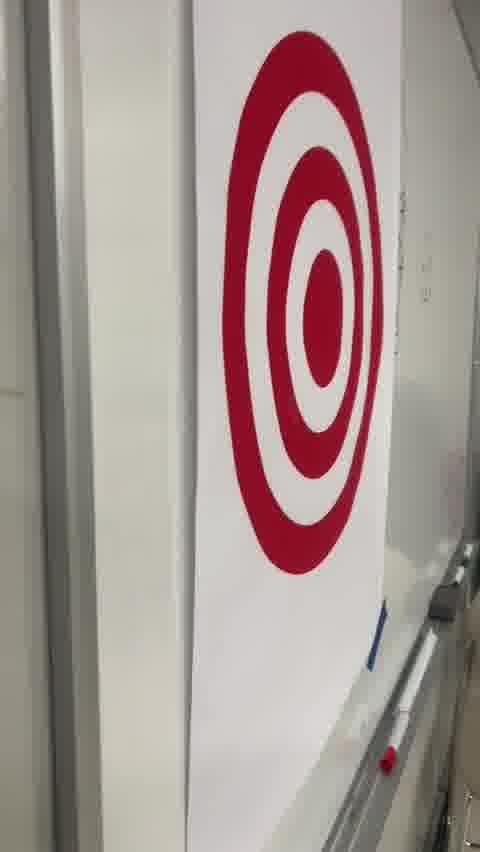target_red: (220, 29, 385, 579)
